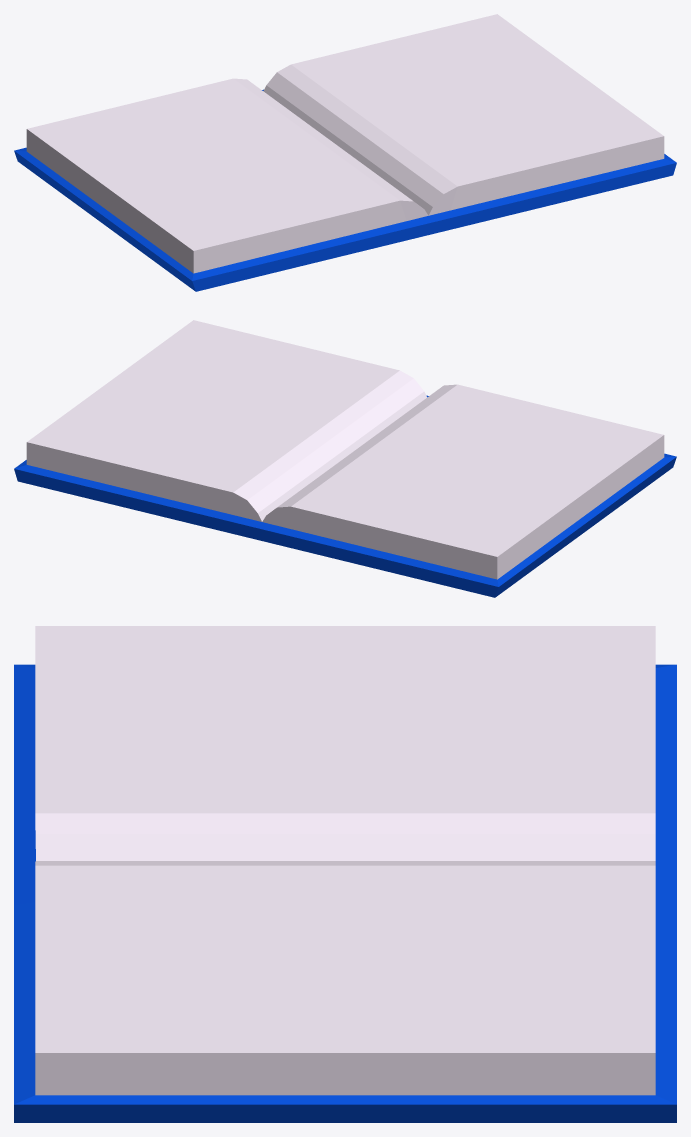
File: openBook.fbx
The picture shows the model from 3 angles, top to bottom: view 1: azimuth 30°, elevation 25°; view 2: azimuth 150°, elevation 25°; view 3: azimuth 270°, elevation 25°; orthographic projection. The views are drawn at different scales.
Visible parts, largest first — view 1: Cube.004; view 2: Cube.004; view 3: Cube.004.
Boxes of the visible parts, x1=… form: Cube.004: x1=14, y1=14, x2=676, y2=291; Cube.004: x1=14, y1=320, x2=676, y2=597; Cube.004: x1=14, y1=626, x2=676, y2=1122.
Bounding box in the file's own units: 29.68 × 2.1 × 18.9.
